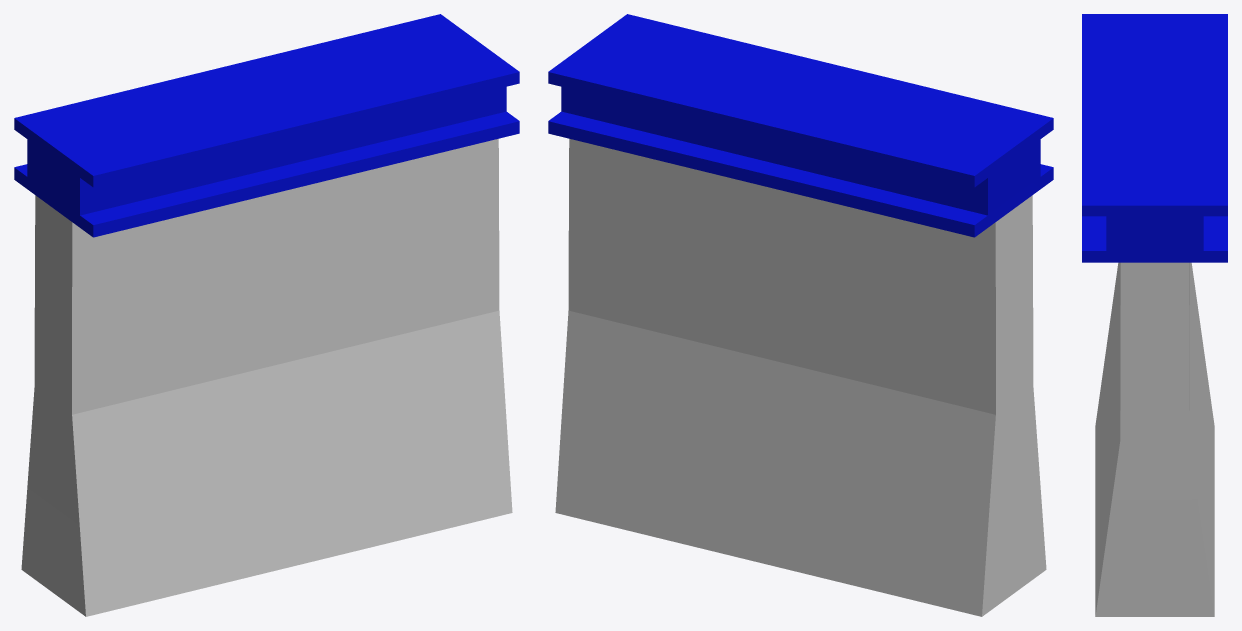
Rendered from Wall2x2_LP.fbx.
The picture shows the model from 3 angles, left to right: view 1: azimuth 30°, elevation 25°; view 2: azimuth 150°, elevation 25°; view 3: azimuth 270°, elevation 25°; orthographic projection. The views are drawn at different scales.
Visible parts, largest first — view 1: Wall_2x2_LP; view 2: Wall_2x2_LP; view 3: Wall_2x2_LP.
Part boxes in pixels (x1,y1,x2,y2): Wall_2x2_LP: (14, 14, 519, 616); Wall_2x2_LP: (548, 14, 1053, 616); Wall_2x2_LP: (1082, 14, 1227, 616).
Size of the model in its own units: 200 by 200 by 64.3.
